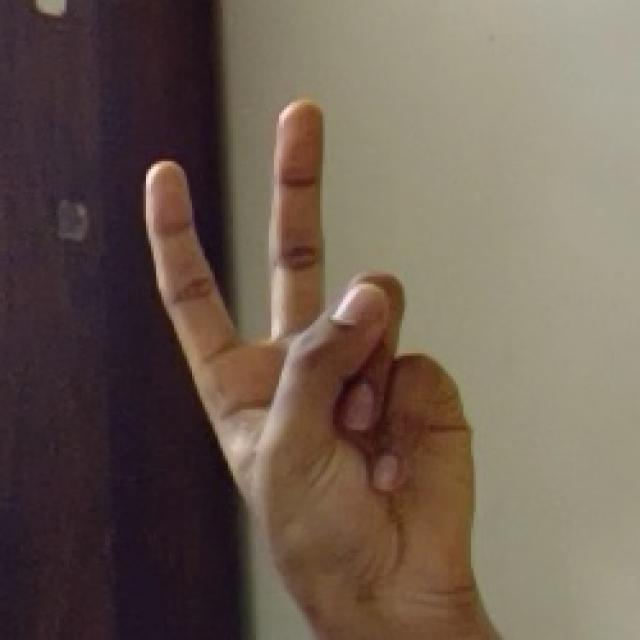Numeric-2: (139, 96, 477, 580)
